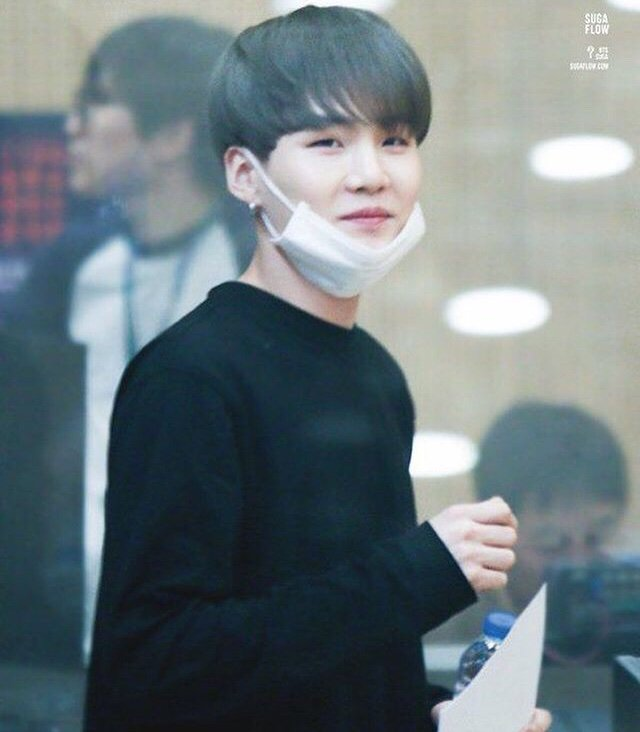mask_weared_incorrect: (278, 134, 428, 293)
without_mask: (57, 81, 142, 209)
